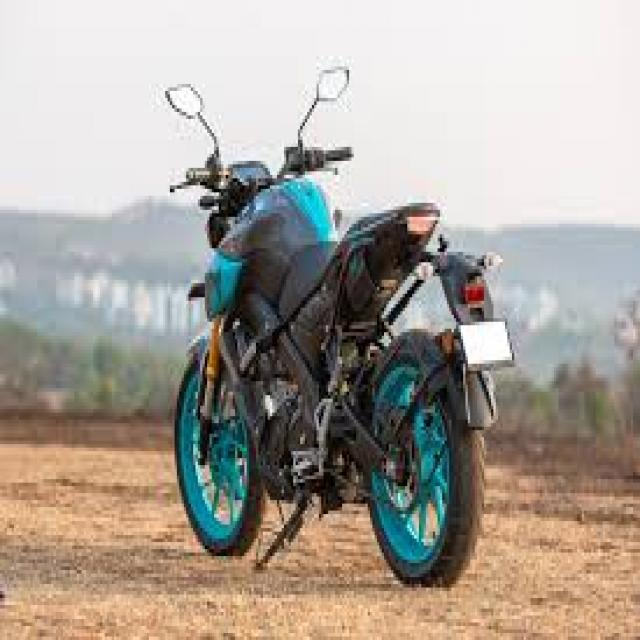Bike: (165, 65, 516, 593)
